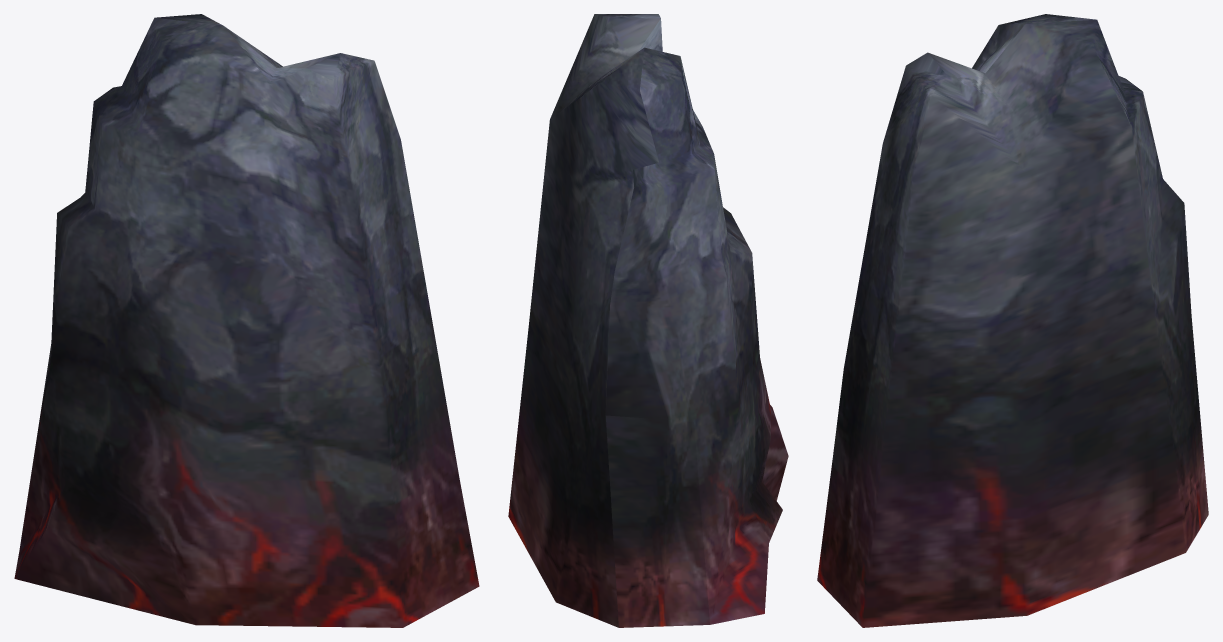
Rendered from environment_stone_yewai_005_e.FBX.
The picture shows the model from 3 angles, left to right: view 1: azimuth 30°, elevation 25°; view 2: azimuth 150°, elevation 25°; view 3: azimuth 270°, elevation 25°; orthographic projection. The views are drawn at different scales.
Visible parts, largest first — view 1: environment_stone_yewai_005_e; view 2: environment_stone_yewai_005_e; view 3: environment_stone_yewai_005_e.
Boxes of the visible parts, x1=… form: environment_stone_yewai_005_e: x1=14, y1=14, x2=479, y2=627; environment_stone_yewai_005_e: x1=508, y1=14, x2=788, y2=627; environment_stone_yewai_005_e: x1=817, y1=14, x2=1208, y2=627.
Bounding box in the file's own units: 623 × 944 × 640.
1 material, 1 textured.
